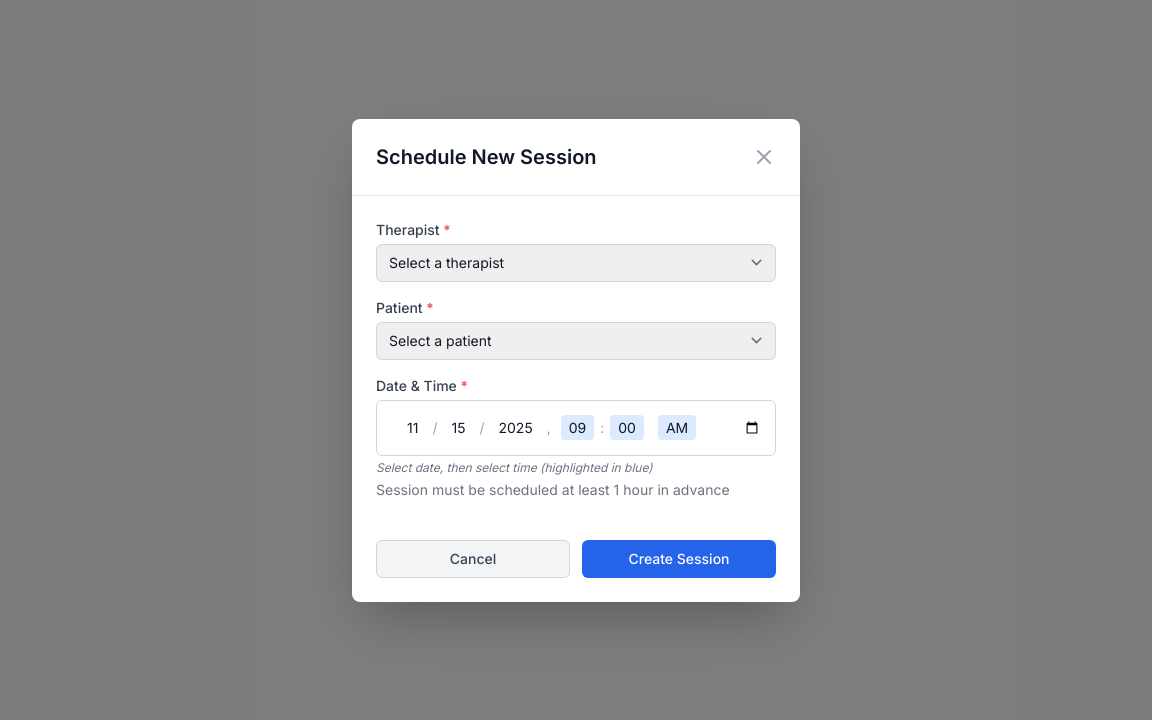
Test: CreateSessionModal › Loading States › disables form elements during submission
// Fill and submit form
Select "Dr. Sarah Johnson (Physical Therapy)" in the dropdown labelled "Therapist *". click: point(576, 262)
box: top-left (376, 244), bottom-right (776, 282)
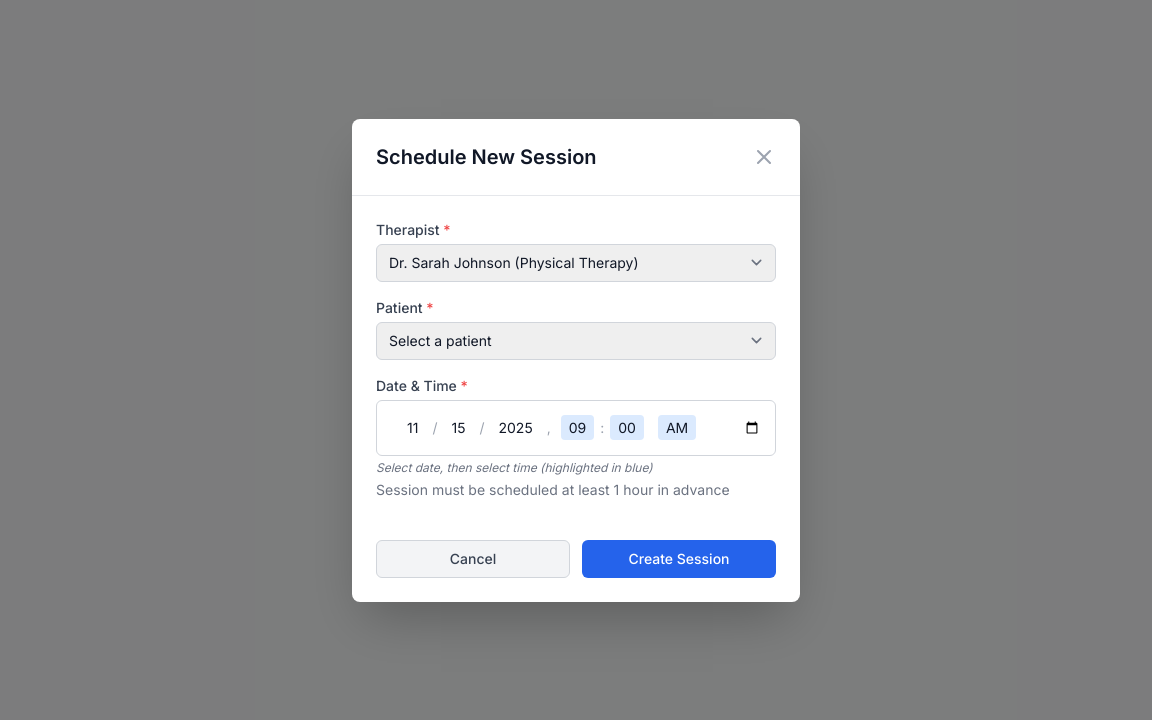
Select "John Smith" in the dropdown labelled "Patient *". click: point(576, 340)
box: top-left (376, 322), bottom-right (776, 360)
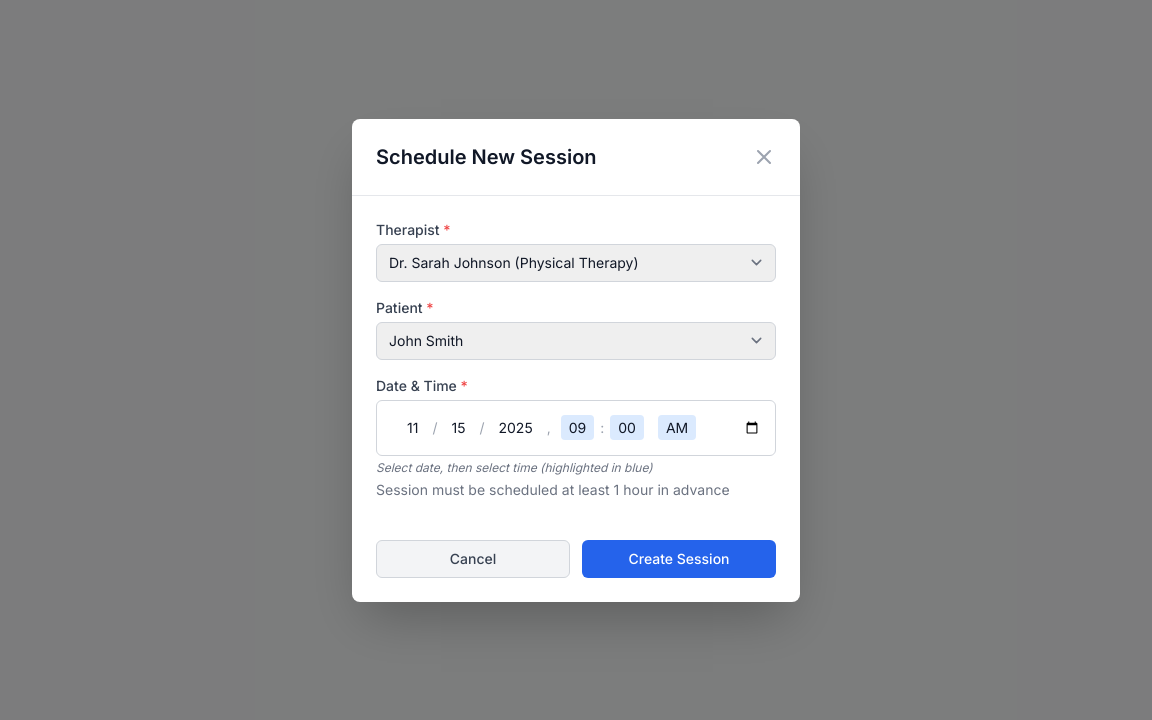
Replace the text in the field labelled "Date & Time *" with "2025-11-15T10:00". click: point(576, 428)
box: top-left (376, 400), bottom-right (776, 456)
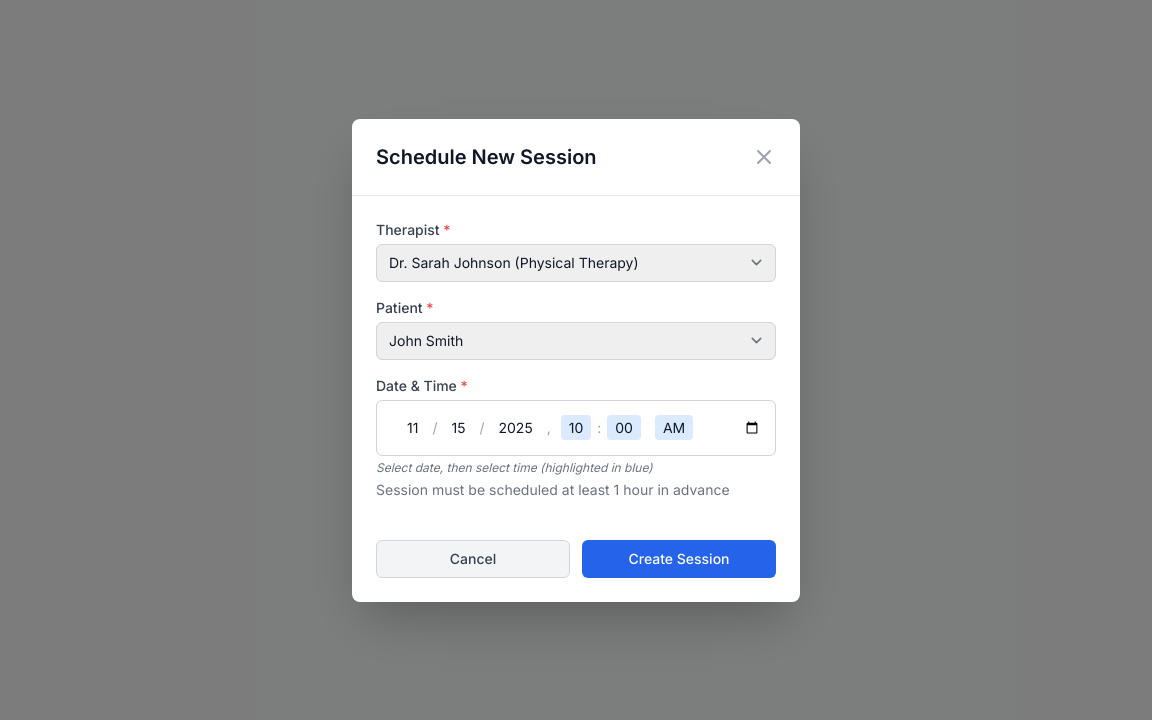
Click the button "Create Session". click: point(679, 558)
box: top-left (582, 540), bottom-right (776, 578)
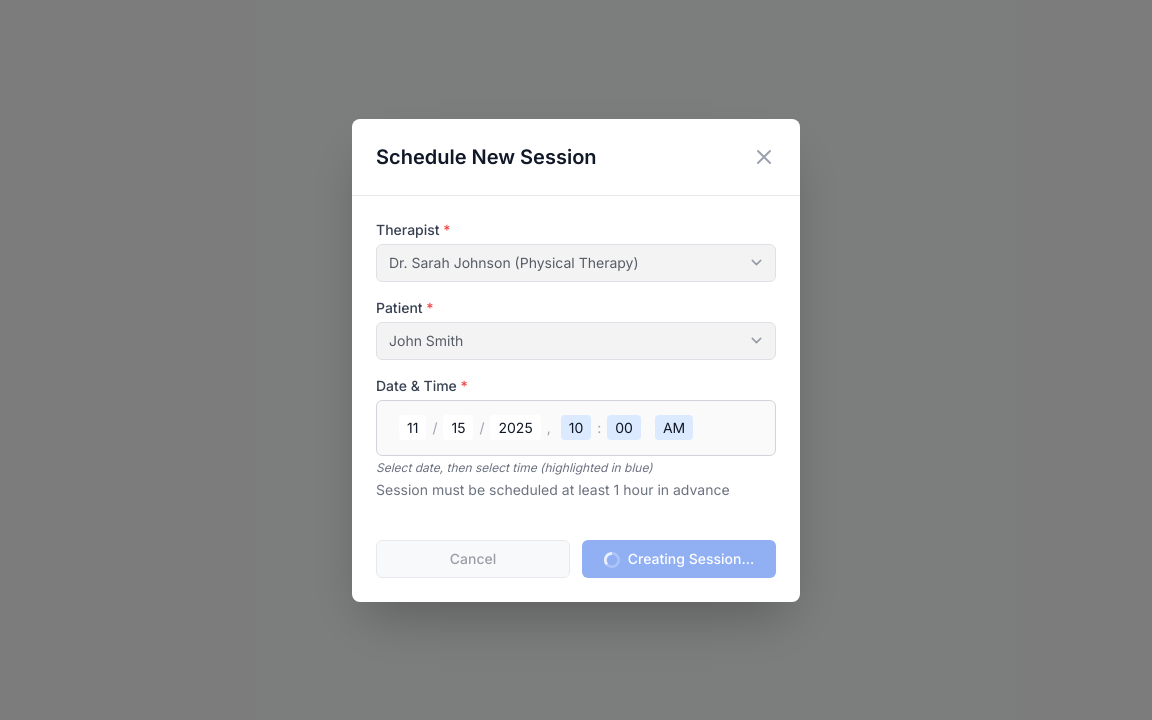
Result: the dropdown labelled "Therapist *" is disabled at top-left (376, 244), bottom-right (776, 282)
Result: the dropdown labelled "Patient *" is disabled at top-left (376, 322), bottom-right (776, 360)
Result: the field labelled "Date & Time *" is disabled at top-left (376, 400), bottom-right (776, 456)
